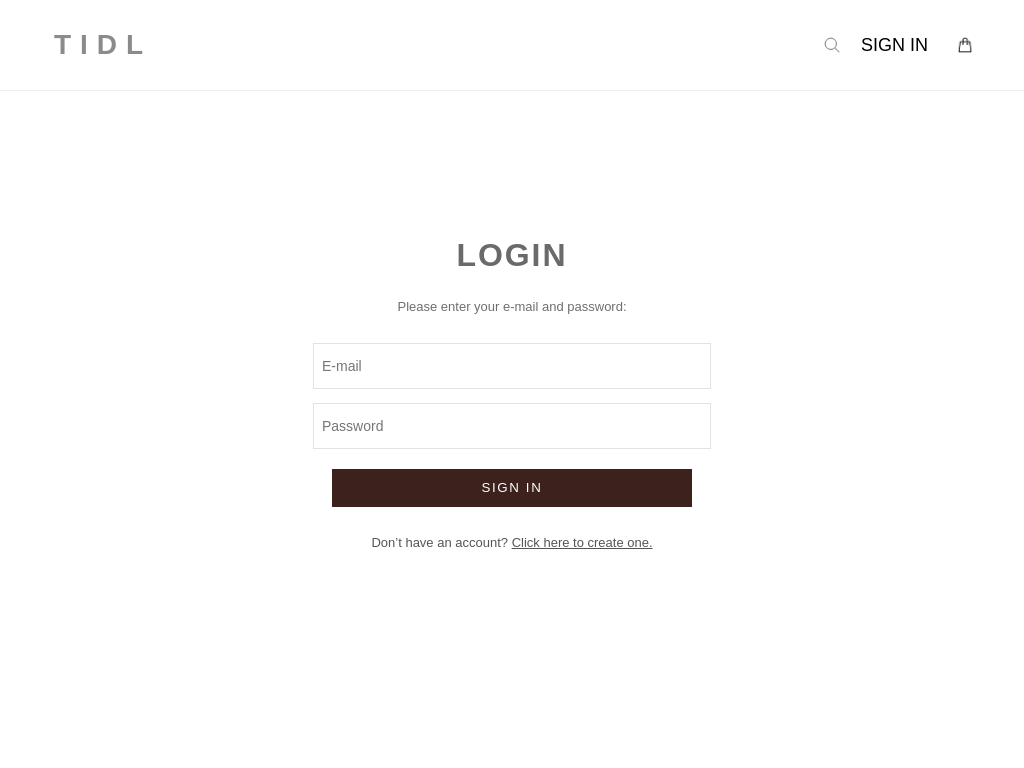
Test case: Login page › shows error message from backend when login fails
The image size is (1024, 768).
Type "bad@example.com" into the field with placeholder "E-mail" at (512, 366), box top-left (313, 342), bottom-right (711, 388)
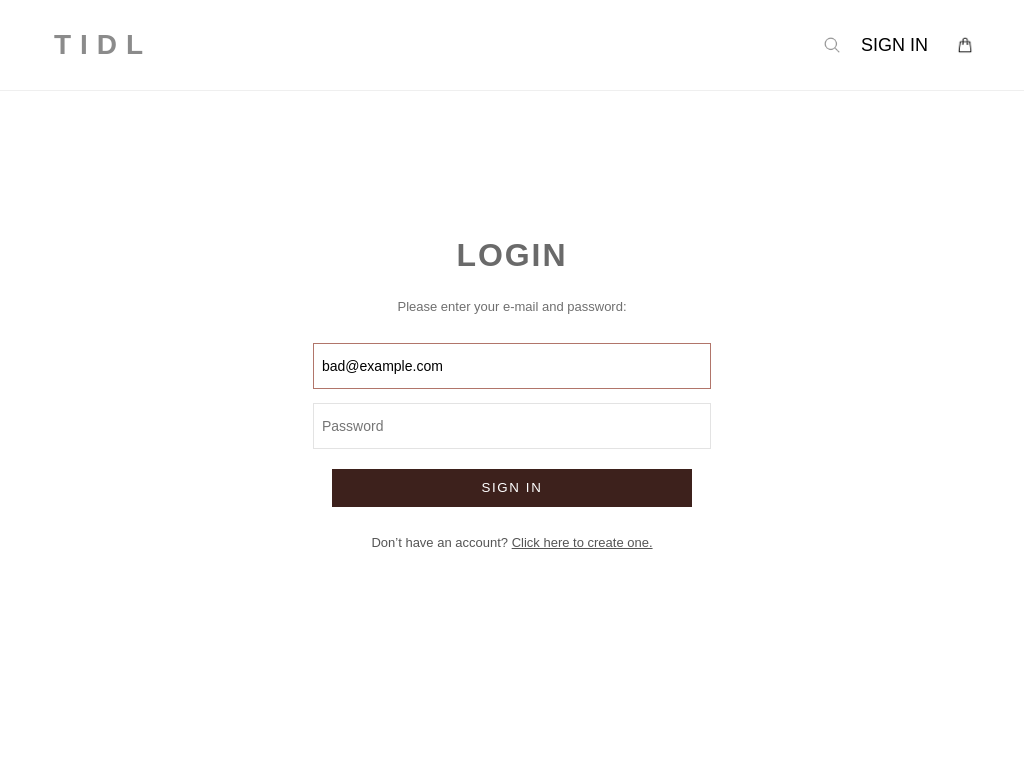
Type "wrong" into the password field with placeholder "Password" at (512, 426), box top-left (313, 402), bottom-right (711, 448)
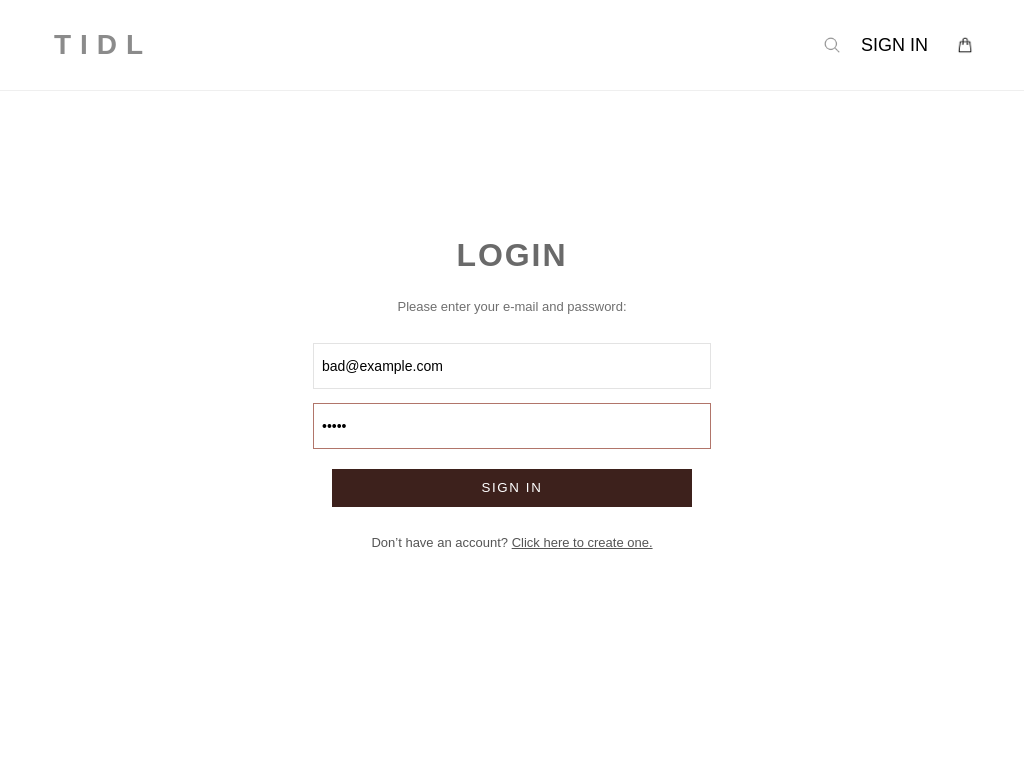
Click the button "SIGN IN" at (512, 488), box top-left (332, 468), bottom-right (692, 506)
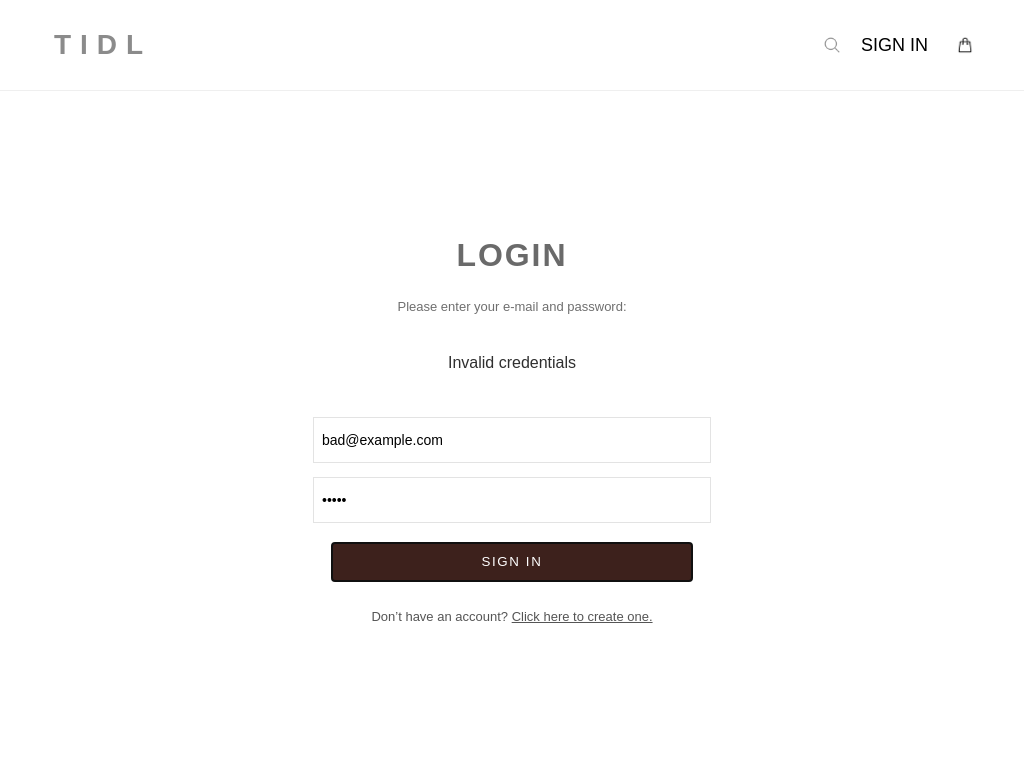
Expected: the text "Invalid credentials" is shown, top-left (448, 354), bottom-right (576, 370)
